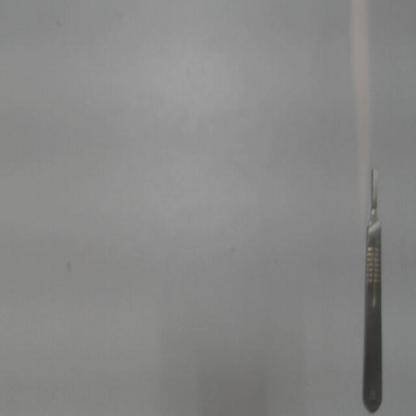No.4 BP Handle: (357, 154, 386, 415)
